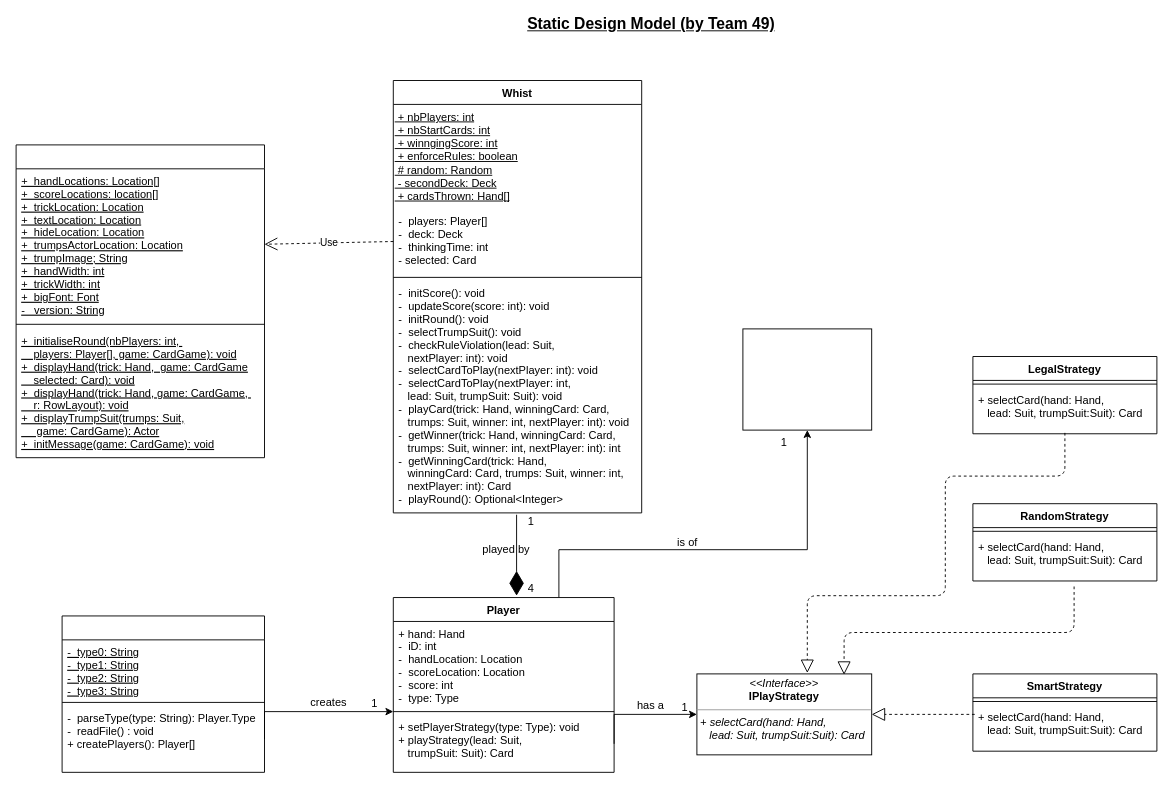
This 1173x790 diagram has some shape labels left out. Each missing label, with the box of its shape:
<< Enumemration >> Type HUMAN RANDOM LEGAL SMART: (742, 328, 872, 430)
Graphics: (15, 144, 264, 458)
PlayerFactory: (61, 615, 264, 772)
